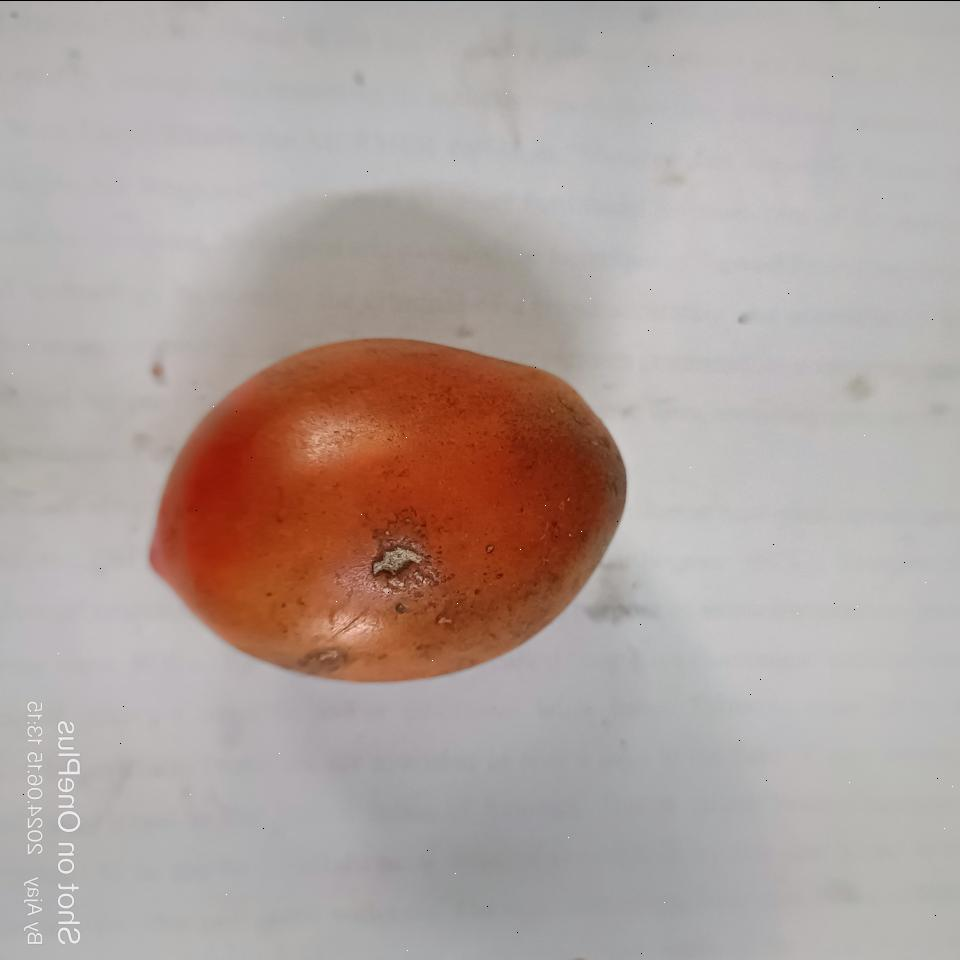Bacterial_Spot: (371, 530, 445, 597), (484, 542, 498, 556)
